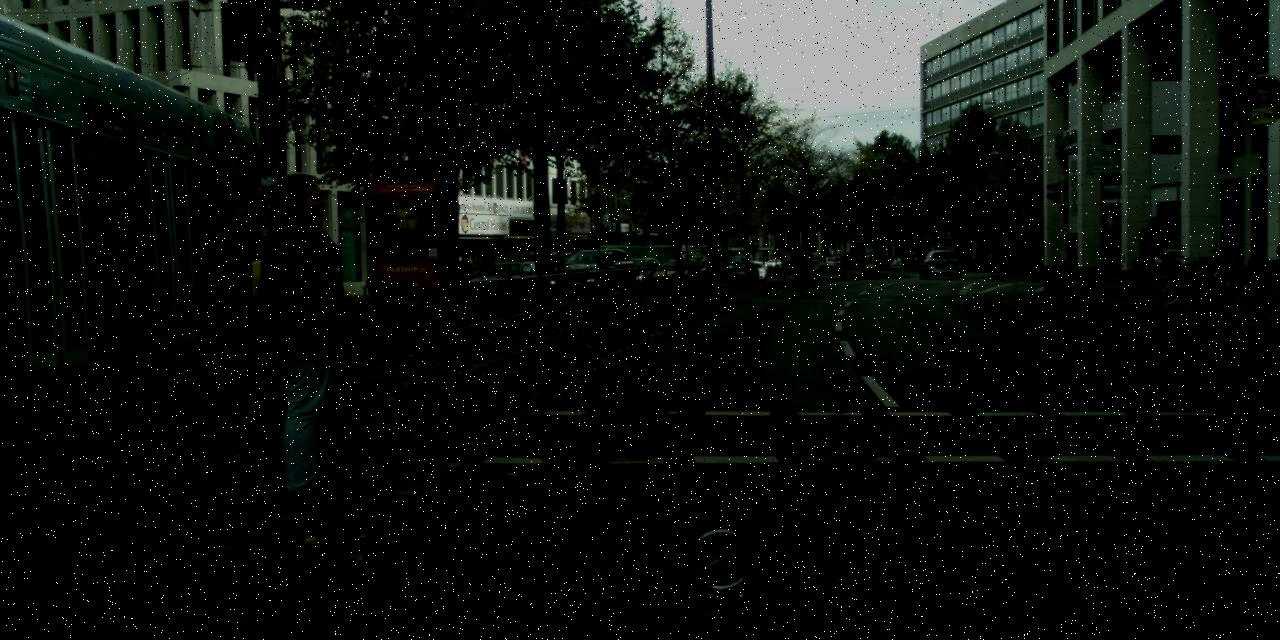ped: (236, 170, 374, 506), (1135, 216, 1167, 296), (785, 240, 805, 290), (460, 257, 476, 297), (472, 262, 484, 292)
